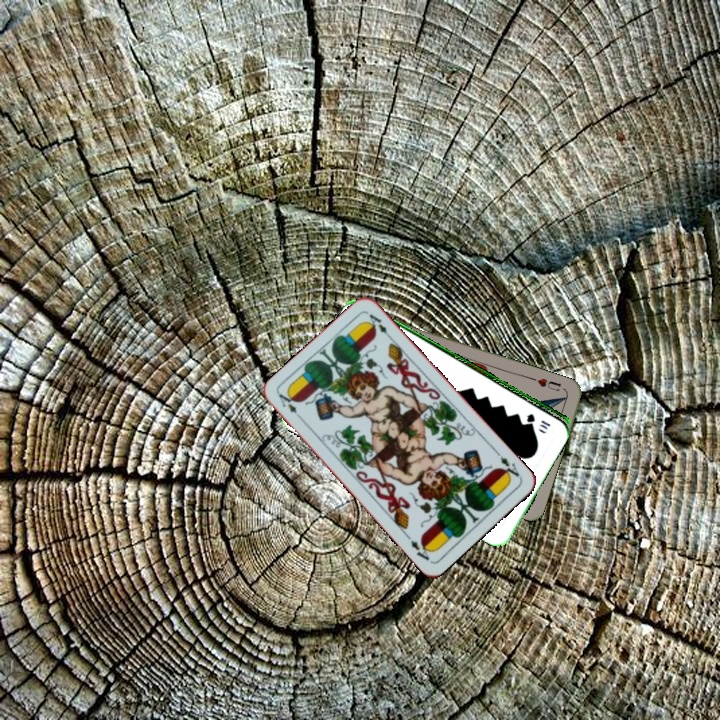EA: (275, 389, 306, 424), (496, 452, 523, 482)
G10: (523, 409, 553, 432)
HU: (528, 374, 564, 394)
